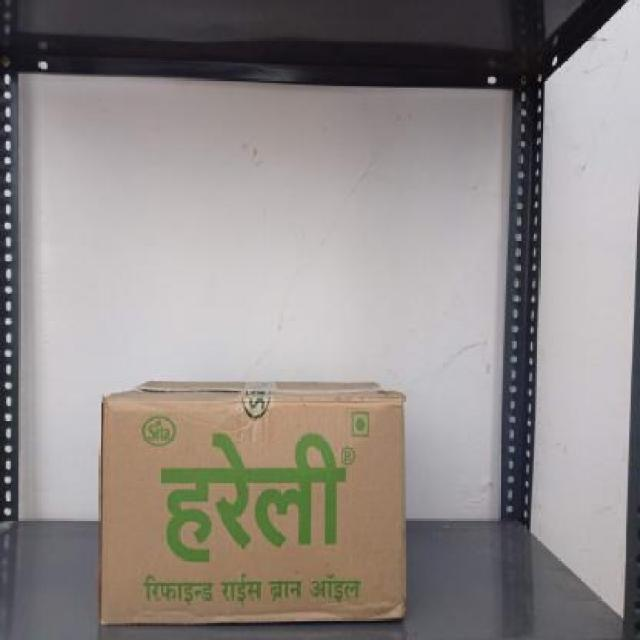box: (98, 398, 410, 618)
